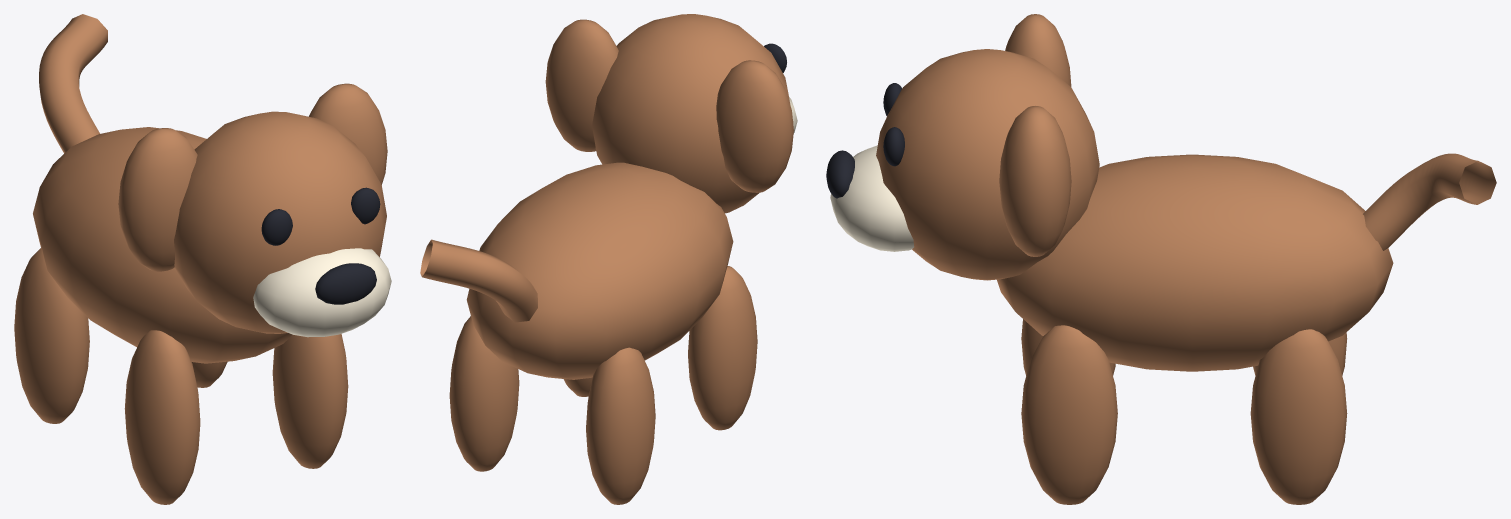
Rendered from dog-jump.glb.
The picture shows the model from 3 angles, left to right: view 1: azimuth 30°, elevation 25°; view 2: azimuth 150°, elevation 25°; view 3: azimuth 270°, elevation 25°; orthographic projection. The views are drawn at different scales.
Parts seen in each view (by area): view 1: animal head, round animal body, little paw, little paw.001, little paw.002, animal ear, muzzle, tail, animal ear.001, nose, eye, eye.001 (+1 smaller); view 2: round animal body, animal head, little paw.001, animal ear, little paw, little paw.003, animal ear.001, tail; view 3: round animal body, animal head, little paw.002, little paw.003, animal ear.001, tail, muzzle, animal ear, nose.
Boxes of the visible parts, x1,y1,x2,y2 form: animal head: [174, 111, 386, 333]; round animal body: [33, 127, 292, 363]; little paw: [124, 330, 200, 504]; little paw.001: [14, 248, 89, 423]; little paw.002: [272, 334, 348, 468]; animal ear: [118, 128, 197, 271]; muzzle: [253, 248, 391, 337]; tail: [39, 14, 107, 153]; animal ear.001: [309, 83, 387, 184]; nose: [315, 263, 376, 304]; eye: [261, 209, 292, 245]; eye.001: [351, 187, 380, 224]; round animal body: [466, 162, 733, 379]; animal head: [592, 14, 793, 213]; little paw.001: [586, 347, 655, 504]; animal ear: [716, 60, 793, 192]; little paw: [688, 266, 757, 430]; little paw.003: [449, 316, 519, 471]; animal ear.001: [545, 19, 618, 151]; tail: [420, 239, 537, 322]; round animal body: [997, 154, 1393, 371]; animal head: [876, 49, 1099, 280]; little paw.002: [1021, 325, 1117, 504]; little paw.003: [1250, 329, 1347, 504]; animal ear.001: [999, 106, 1071, 256]; tail: [1363, 153, 1496, 250]; muzzle: [830, 145, 914, 251]; animal ear: [1005, 14, 1071, 86]; nose: [826, 150, 854, 198].
Size of the model in its own units: 0.78 by 1.12 by 1.67.
